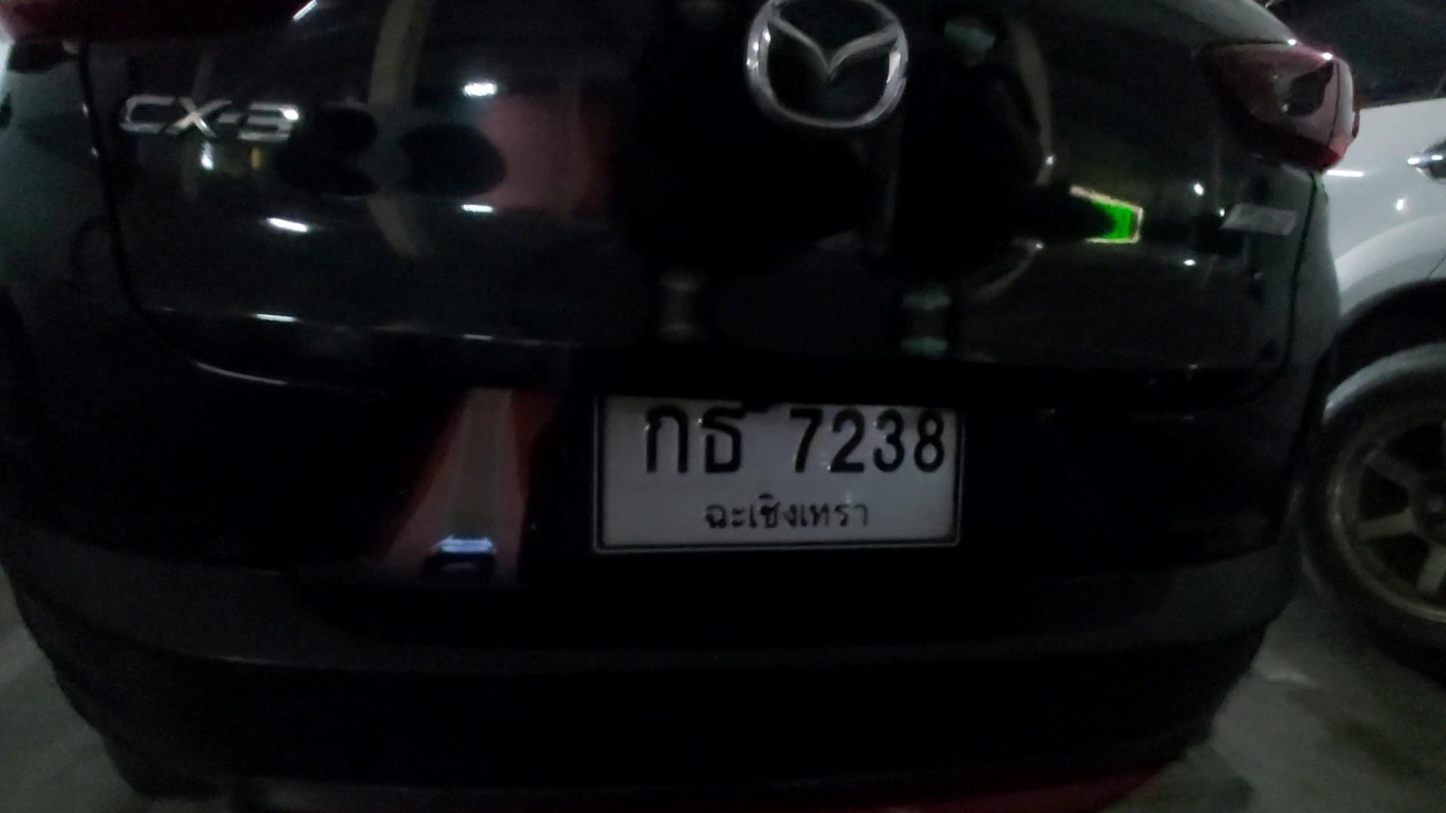license-plate: (604, 390, 959, 556)
